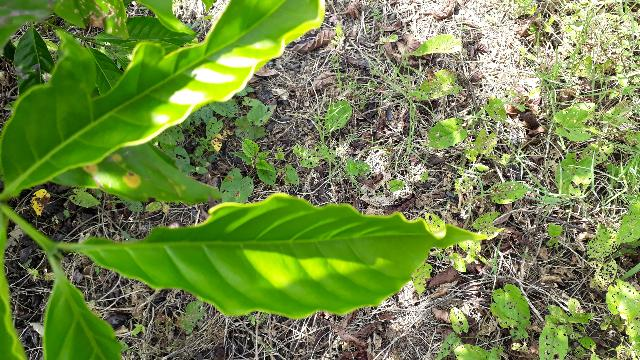healthy: (81, 197, 489, 319)
